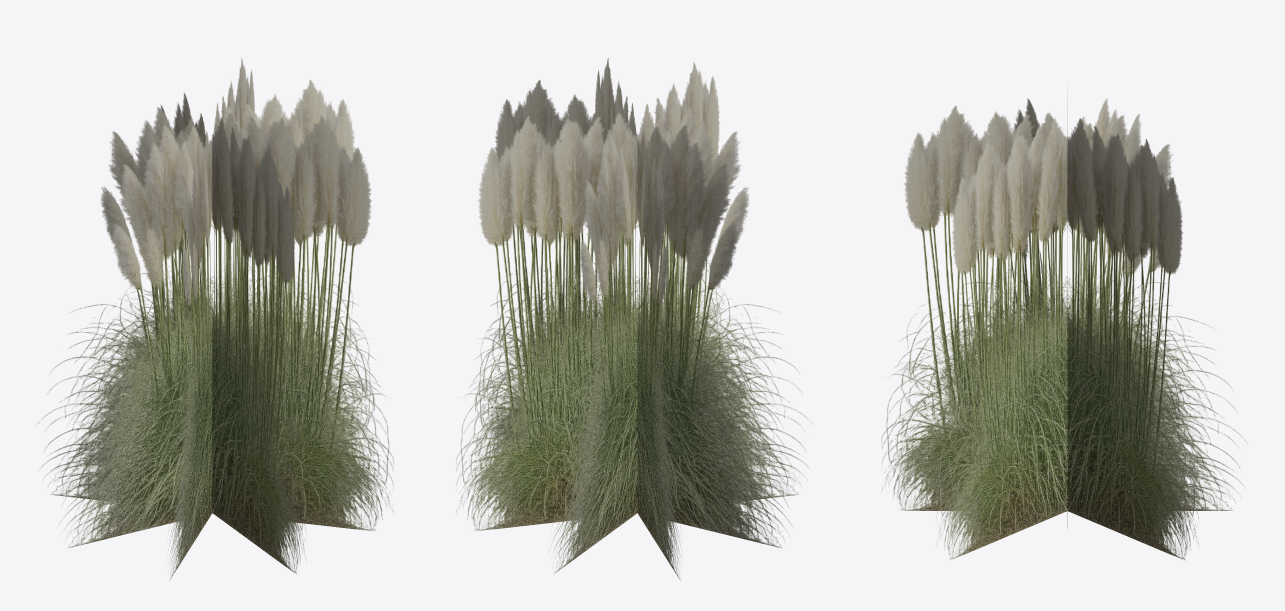
Rendered from Cortadera.glb.
3 renders of one model, left to right at view 1: azimuth 30°, elevation 25°; view 2: azimuth 150°, elevation 25°; view 3: azimuth 270°, elevation 25°, orthographic.
Visible parts, largest first — view 1: Cortadera (Cortaderia selloana); view 2: Cortadera (Cortaderia selloana); view 3: Cortadera (Cortaderia selloana).
Part boxes in pixels (<box>): Cortadera (Cortaderia selloana): <box>36,58,393,580</box>; Cortadera (Cortaderia selloana): <box>456,58,813,580</box>; Cortadera (Cortaderia selloana): <box>881,98,1247,559</box>.
Bounding box in the file's own units: 1.11 × 1.24 × 1.11.
4 materials, 4 textured.
